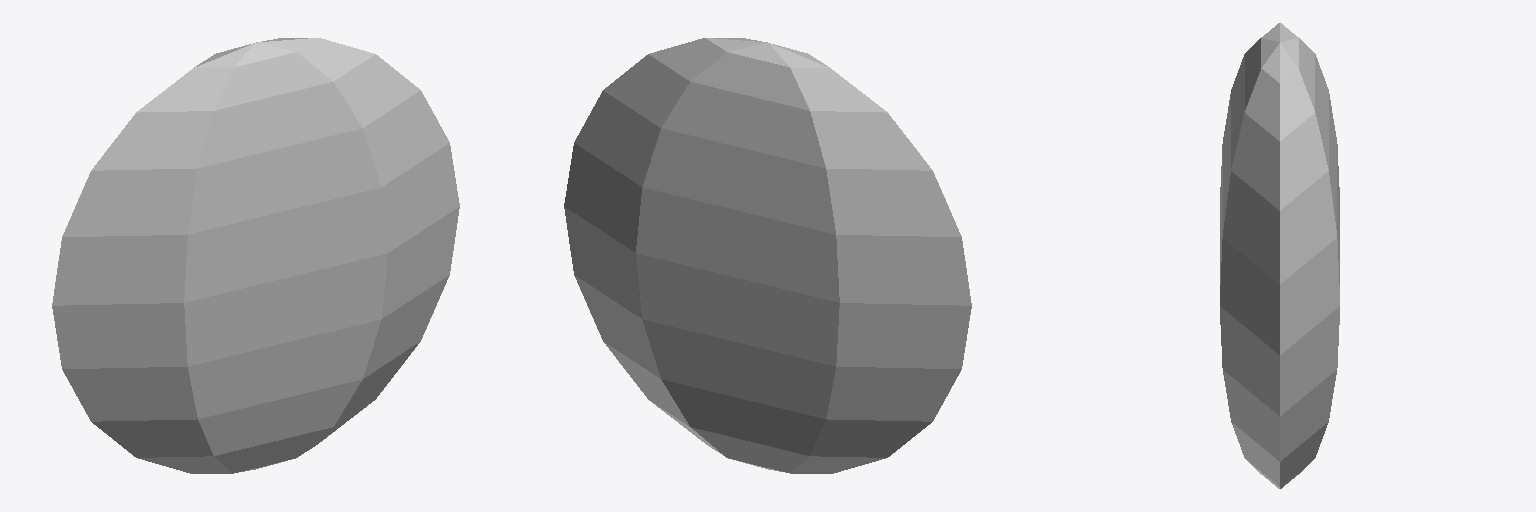
The model's file is vehicle_Geo.obj.
3 renders of one model, left to right at view 1: azimuth 30°, elevation 25°; view 2: azimuth 150°, elevation 25°; view 3: azimuth 270°, elevation 25°, orthographic.
Visible parts, largest first — view 1: vehicleHitBox; view 2: vehicleHitBox; view 3: vehicleHitBox.
Boxes of the visible parts, <box> form: vehicleHitBox: <box>52,38,459,473</box>; vehicleHitBox: <box>564,38,971,473</box>; vehicleHitBox: <box>1220,23,1339,488</box>.
Bounding box in the file's own units: 4.65 × 4.65 × 1.19.